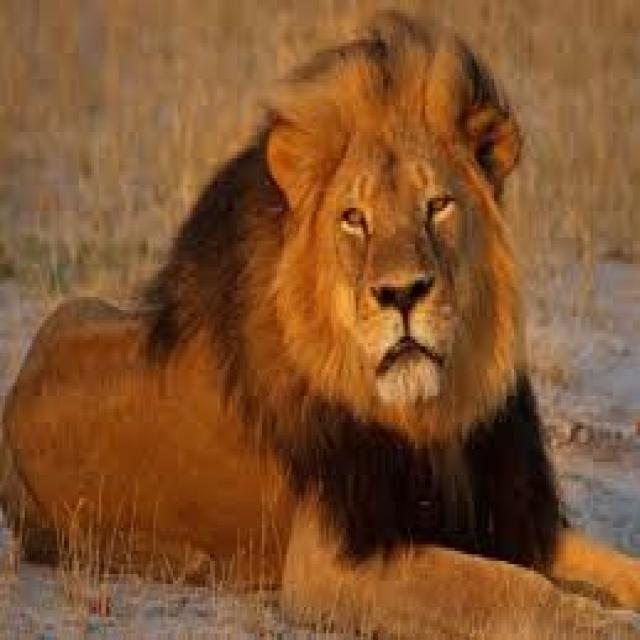Lion: (0, 27, 638, 637)
